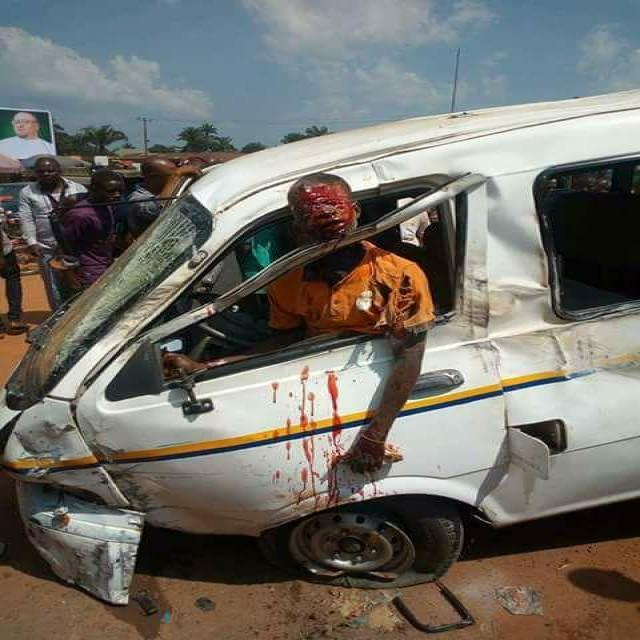flood: (259, 356, 383, 514), (264, 166, 364, 240)
